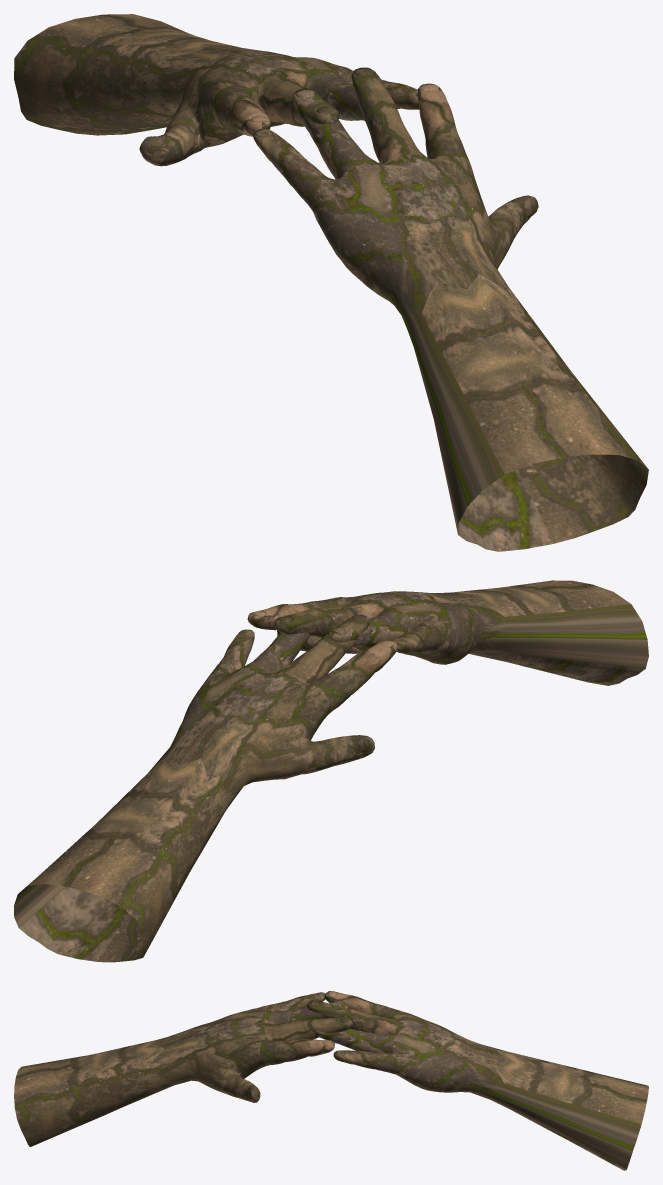
Rendered from hands_000006.obj.
3 views of the same model, one above another, from view 1: azimuth 30°, elevation 25°; view 2: azimuth 150°, elevation 25°; view 3: azimuth 270°, elevation 25° (orthographic). The views are drawn at different scales.
Parts seen in each view (by area): view 1: hand.001_Mesh.001, hand_Mesh; view 2: hand_Mesh, hand.001_Mesh.001; view 3: hand_Mesh, hand.001_Mesh.001.
Boxes of the visible parts, bbox=[...] form: hand.001_Mesh.001: bbox=[253, 67, 648, 551]; hand_Mesh: bbox=[14, 14, 419, 166]; hand_Mesh: bbox=[14, 614, 397, 962]; hand.001_Mesh.001: bbox=[247, 580, 648, 685]; hand_Mesh: bbox=[306, 991, 648, 1170]; hand.001_Mesh.001: bbox=[14, 992, 352, 1146].
Bounding box in the file's own units: 1.58 × 1.4 × 5.66.
Materials: 1 (1 with a texture image).
